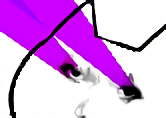dragon: (57, 61, 143, 118)
